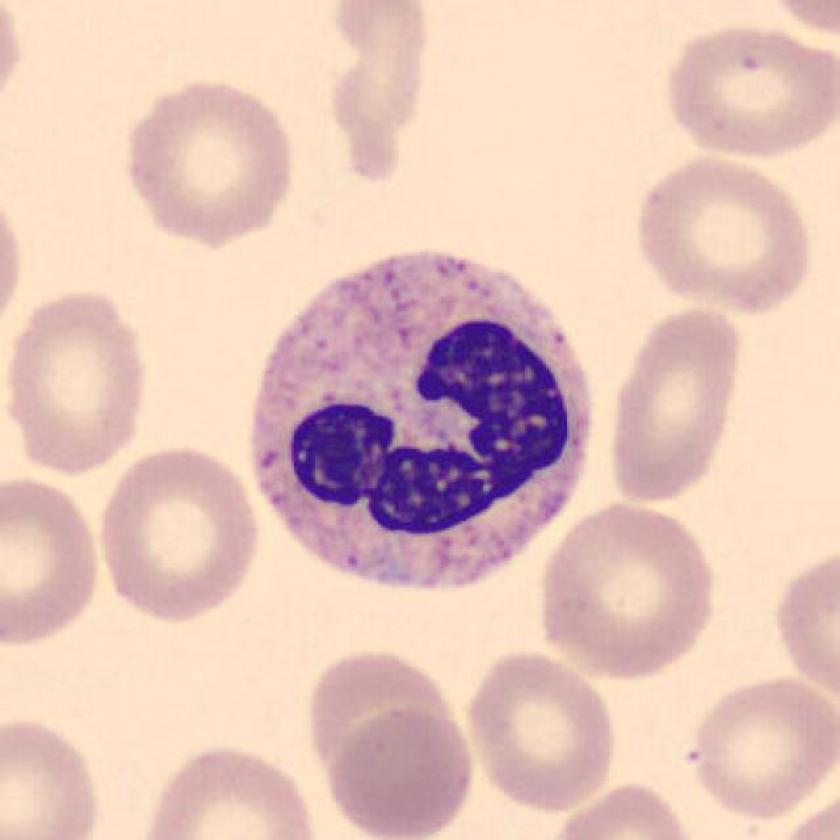neutrophil: (249, 253, 586, 581)
